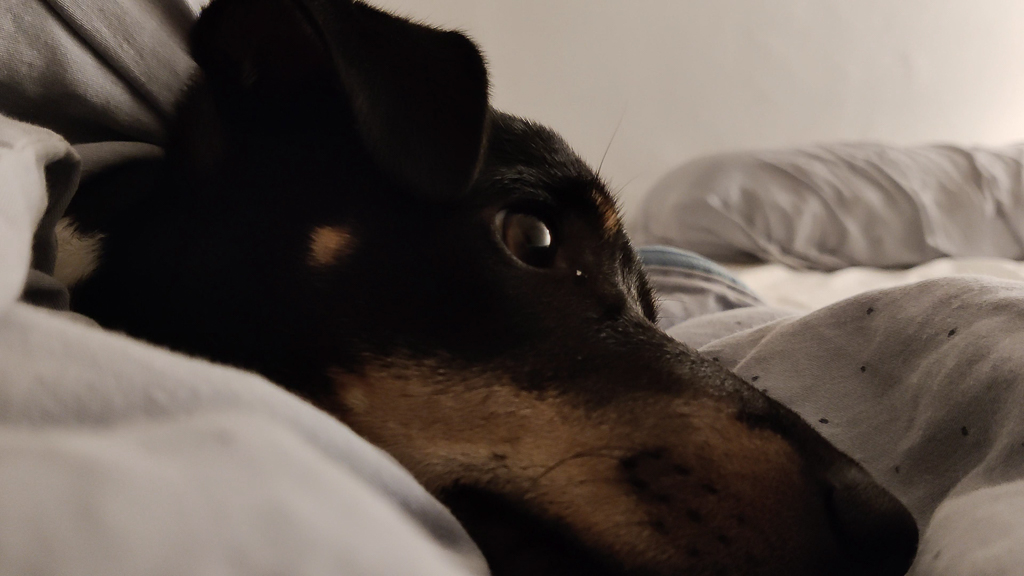Dog: (39, 0, 949, 576)
